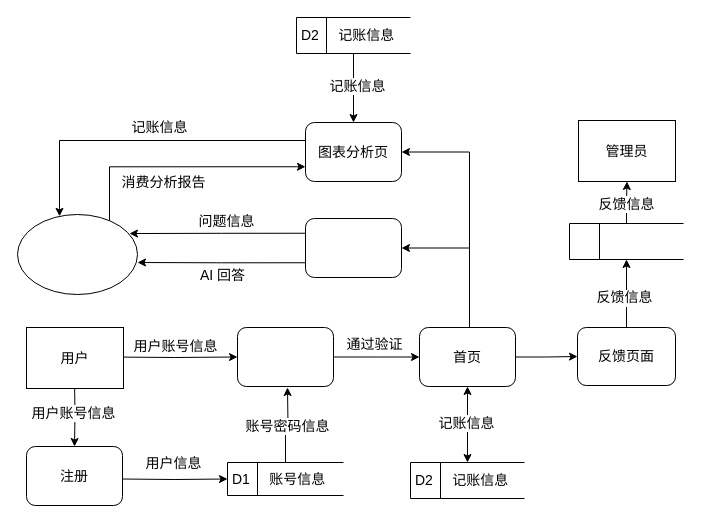
Some shapes in this 701 by 523 pixel diagram are drawn without their labels. The shapes that lost their labels are listed below. From the top down, each one's box as (x1, y1, x2, y2) in pixels, then its label:
(16, 214, 138, 294): OpenAi / Deepseek服务器
(304, 218, 402, 278): AI页面
(568, 222, 684, 260): D3 反馈信息
(236, 326, 334, 386): 登录
